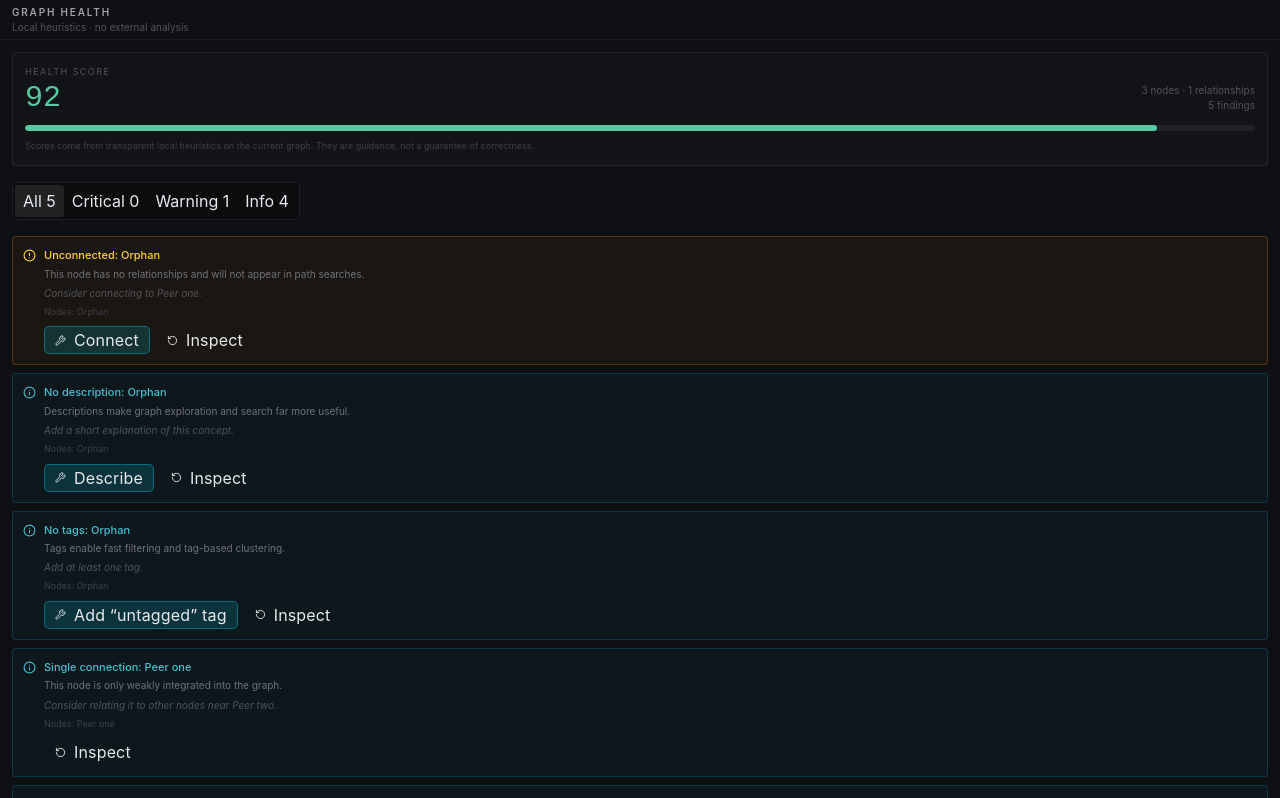
Test case: HealthPanel › filters findings by severity
The width and height of the screenshot is (1280, 798).
Click the tab "Warning 1": (192, 201) [147,185,237,217]
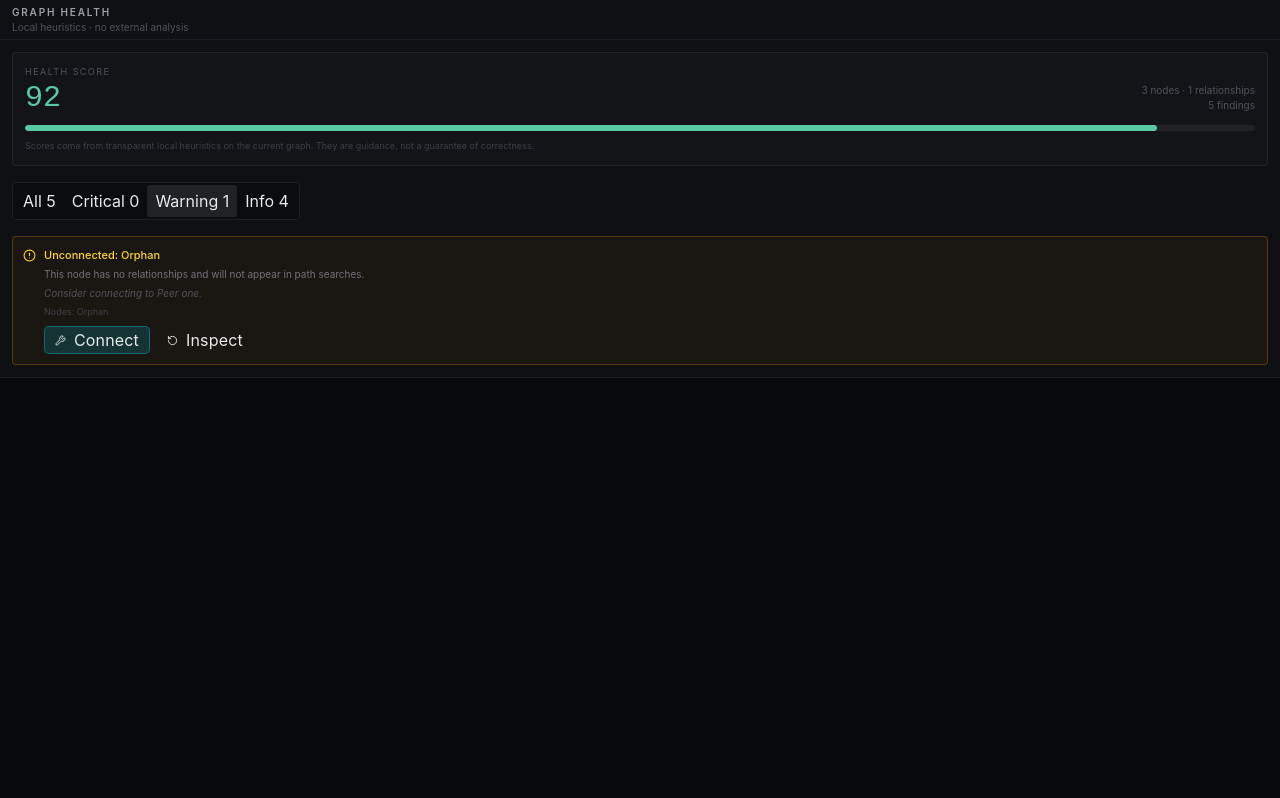
Expected: the text "Unconnected: Orphan" is shown, [44,248,160,262]
Expected: the text "No tags: Orphan" is gone
Click the tab "Info 4": (267, 201) [237,185,297,217]
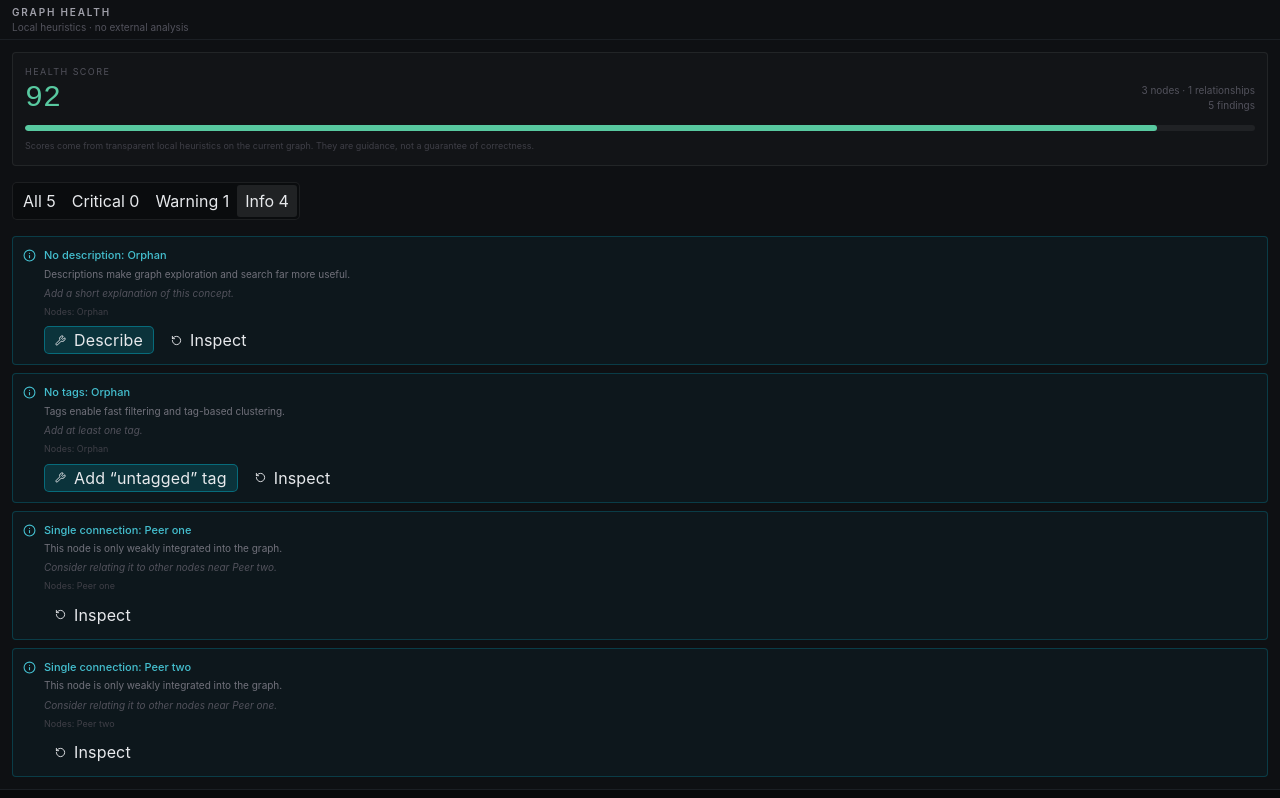
Expected: the text "No tags: Orphan" is shown, [44,385,130,399]
Expected: the text "Unconnected: Orphan" is gone
